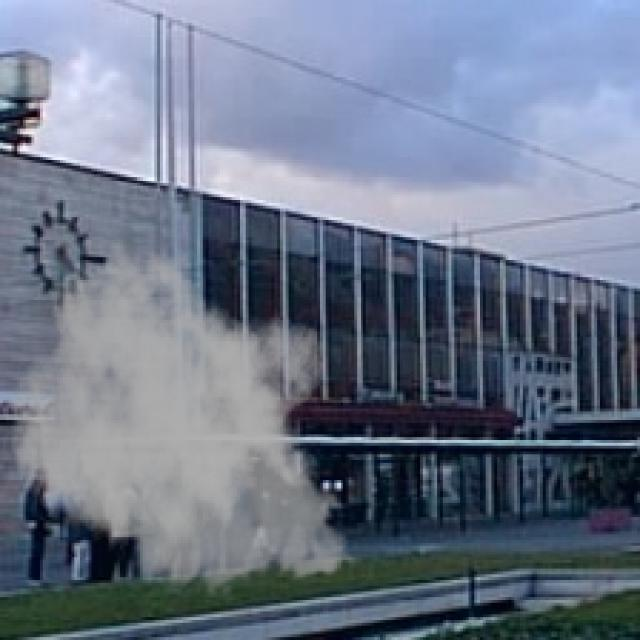smoke: (8, 237, 363, 600)
